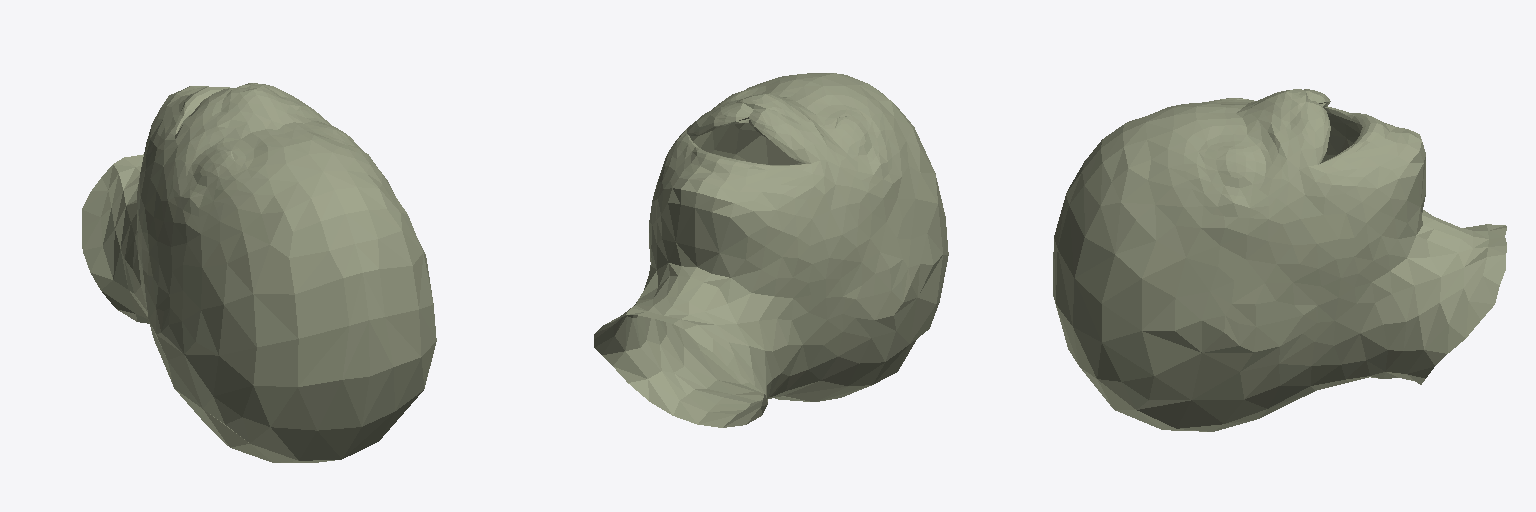
Rendered from Catmask_default.obj.
3 renders of one model, left to right at view 1: azimuth 30°, elevation 25°; view 2: azimuth 150°, elevation 25°; view 3: azimuth 270°, elevation 25°, orthographic.
Visible parts, largest first — view 1: Catmask_default_Catsuit_default.001; view 2: Catmask_default_Catsuit_default.001; view 3: Catmask_default_Catsuit_default.001.
Boxes of the visible parts, <box> form: Catmask_default_Catsuit_default.001: <box>82,83,436,462</box>; Catmask_default_Catsuit_default.001: <box>594,73,948,427</box>; Catmask_default_Catsuit_default.001: <box>1053,89,1506,431</box>.
Size of the model in its own units: 1.31 by 1.78 by 2.24.